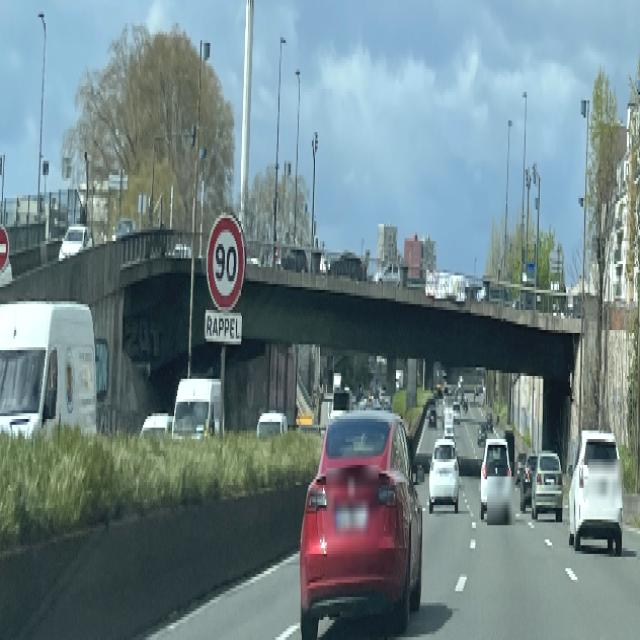speed_90: (206, 212, 247, 316)
